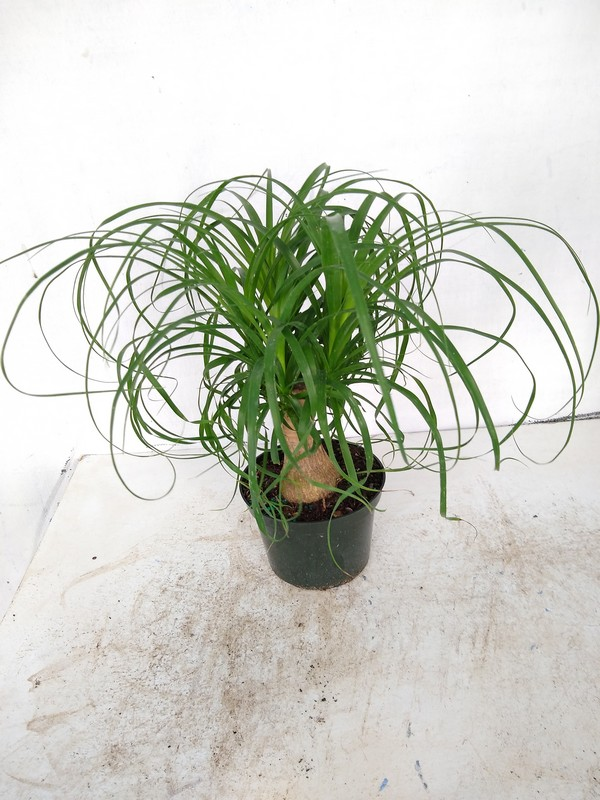plant: (1, 163, 600, 503)
pot: (237, 435, 390, 594)
